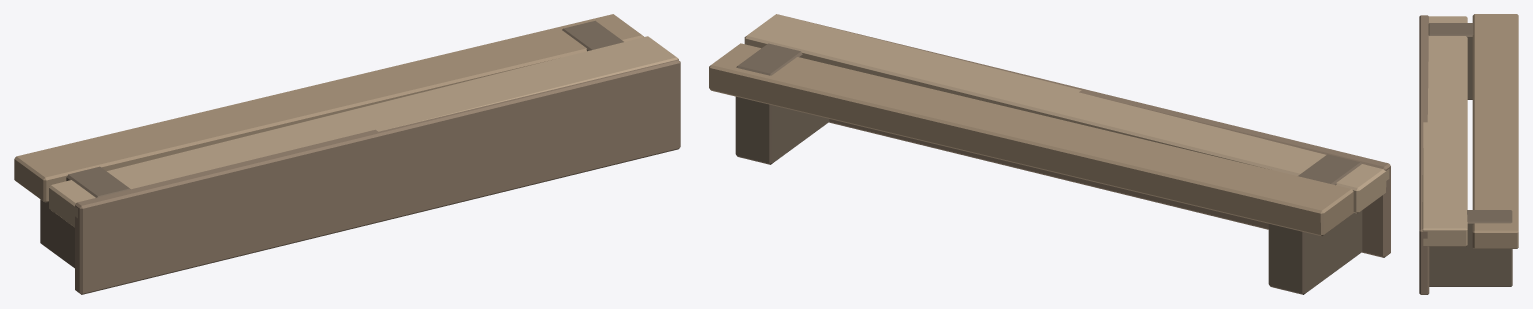
Rendered from dock-step.glb.
3 views of the same model, side by side, from view 1: azimuth 30°, elevation 25°; view 2: azimuth 150°, elevation 25°; view 3: azimuth 270°, elevation 25° (orthographic). The views are drawn at different scales.
Visible parts, largest first — view 1: step_riser, step_plank_1, step_plank_0, step_block_-1, step_block_1; view 2: step_plank_1, step_plank_0, step_riser, step_block_-1, step_block_1; view 3: step_plank_1, step_plank_0, step_block_1, step_riser, step_block_-1.
Boxes of the visible parts, x1,y1,x2,y2 form: step_riser: [75, 59, 680, 294]; step_plank_1: [14, 14, 643, 202]; step_plank_0: [49, 36, 678, 227]; step_block_-1: [40, 166, 130, 268]; step_block_1: [562, 20, 623, 51]; step_plank_1: [709, 43, 1353, 236]; step_plank_0: [744, 14, 1389, 213]; step_riser: [789, 17, 1390, 257]; step_block_-1: [1268, 154, 1362, 294]; step_block_1: [735, 43, 829, 164]; step_plank_1: [1472, 14, 1518, 248]; step_plank_0: [1422, 16, 1467, 246]; step_block_1: [1429, 210, 1512, 286]; step_riser: [1419, 15, 1429, 294]; step_block_-1: [1428, 23, 1473, 99].
Size of the model in its own units: 3 by 0.4328 by 0.585.
